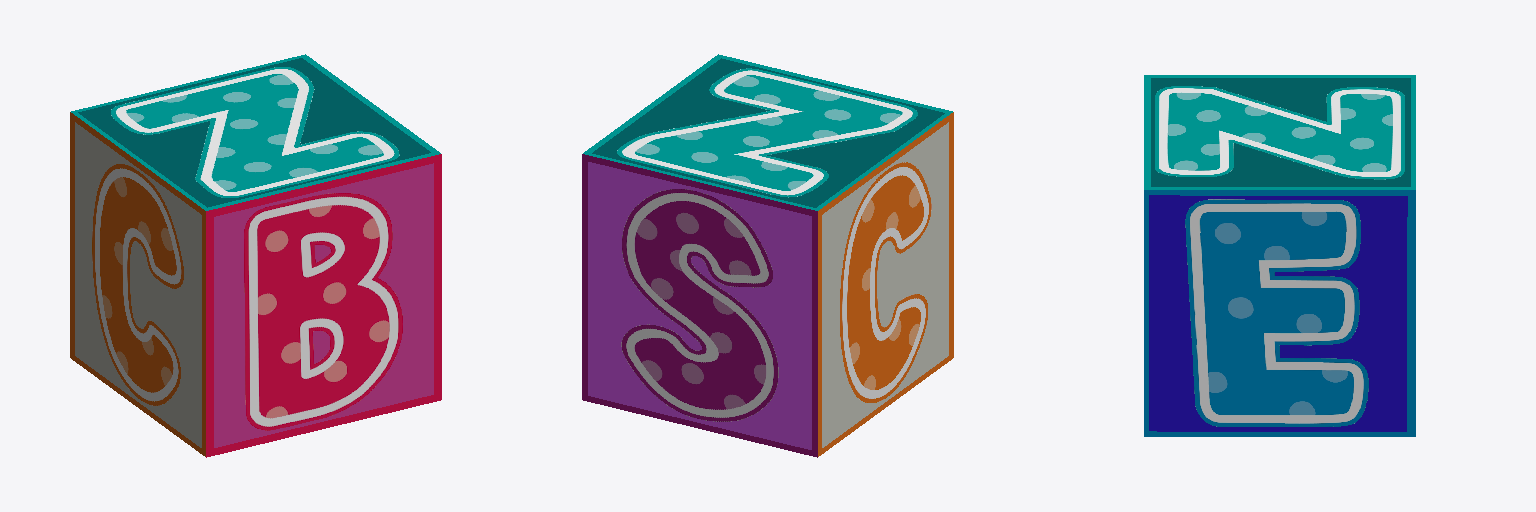
3 views of the same model, side by side, from view 1: azimuth 30°, elevation 25°; view 2: azimuth 150°, elevation 25°; view 3: azimuth 270°, elevation 25° (orthographic).
Parts seen in each view (by area): view 1: pCube1; view 2: pCube1; view 3: pCube1.
Boxes of the visible parts, <box> form: pCube1: <box>70,54,441,457</box>; pCube1: <box>582,54,953,457</box>; pCube1: <box>1144,75,1415,436</box>.
Size of the model in its own units: 2 by 2 by 2.
6 materials, 6 textured.